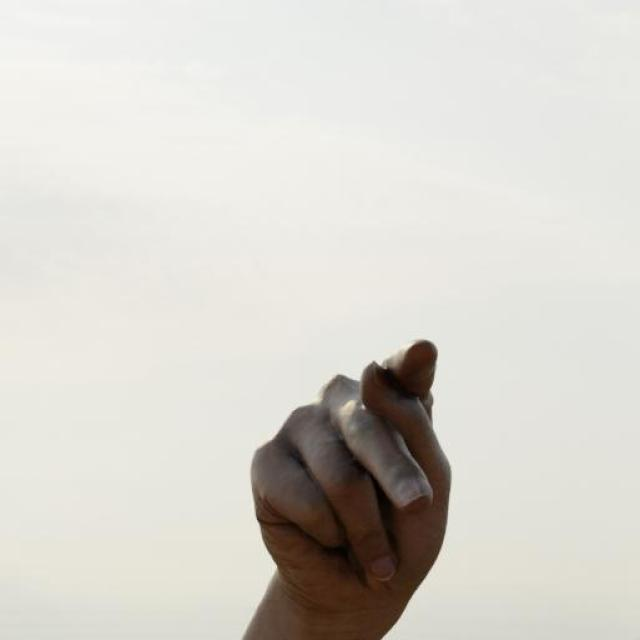P: (246, 336, 456, 606)
